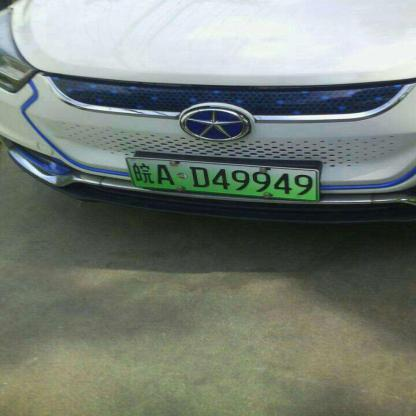lp: (126, 154, 320, 202)
